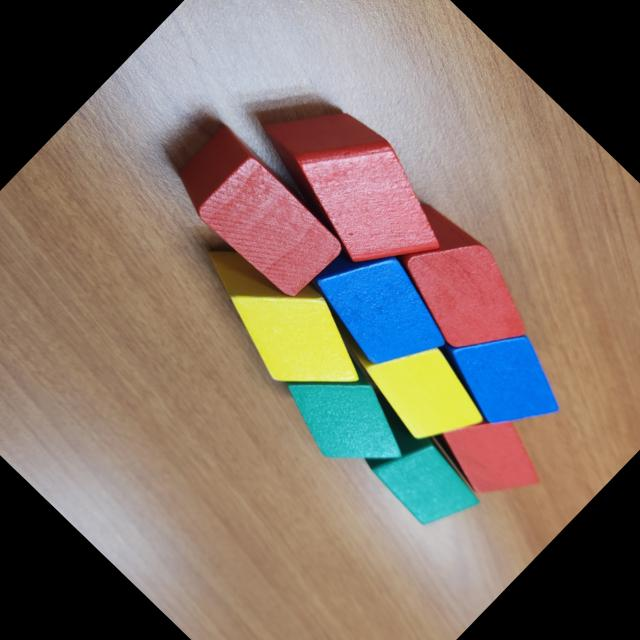blue: (298, 224, 466, 391), (424, 296, 580, 452)
green: (264, 334, 428, 497), (358, 413, 489, 543)
red: (235, 70, 467, 300), (363, 192, 551, 378), (163, 123, 350, 306), (428, 392, 557, 521)
yellow: (174, 216, 389, 429), (329, 298, 502, 468)
